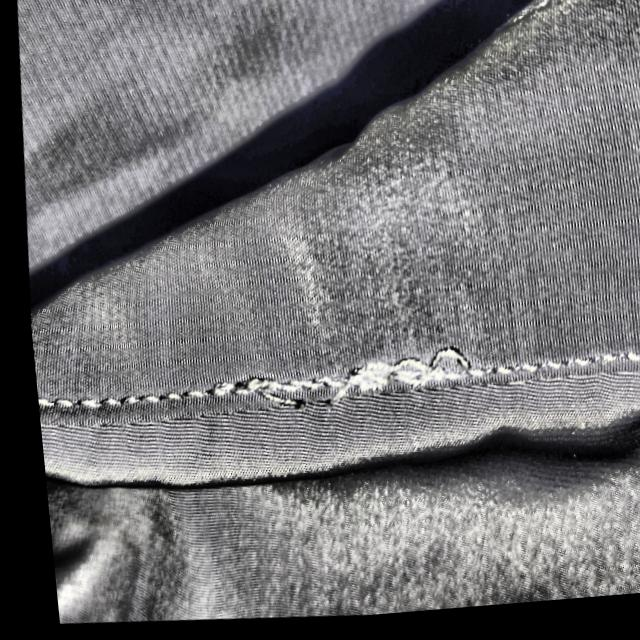Stitch: (172, 331, 510, 435)
